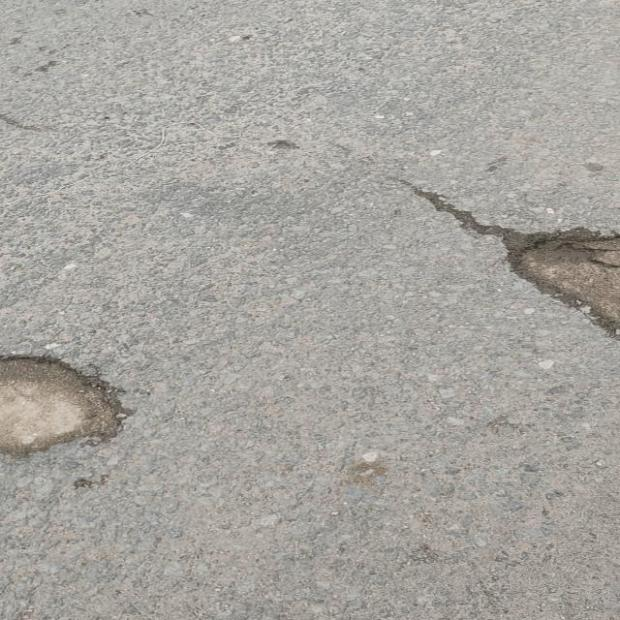lubang: (425, 193, 619, 334), (0, 356, 125, 453)
